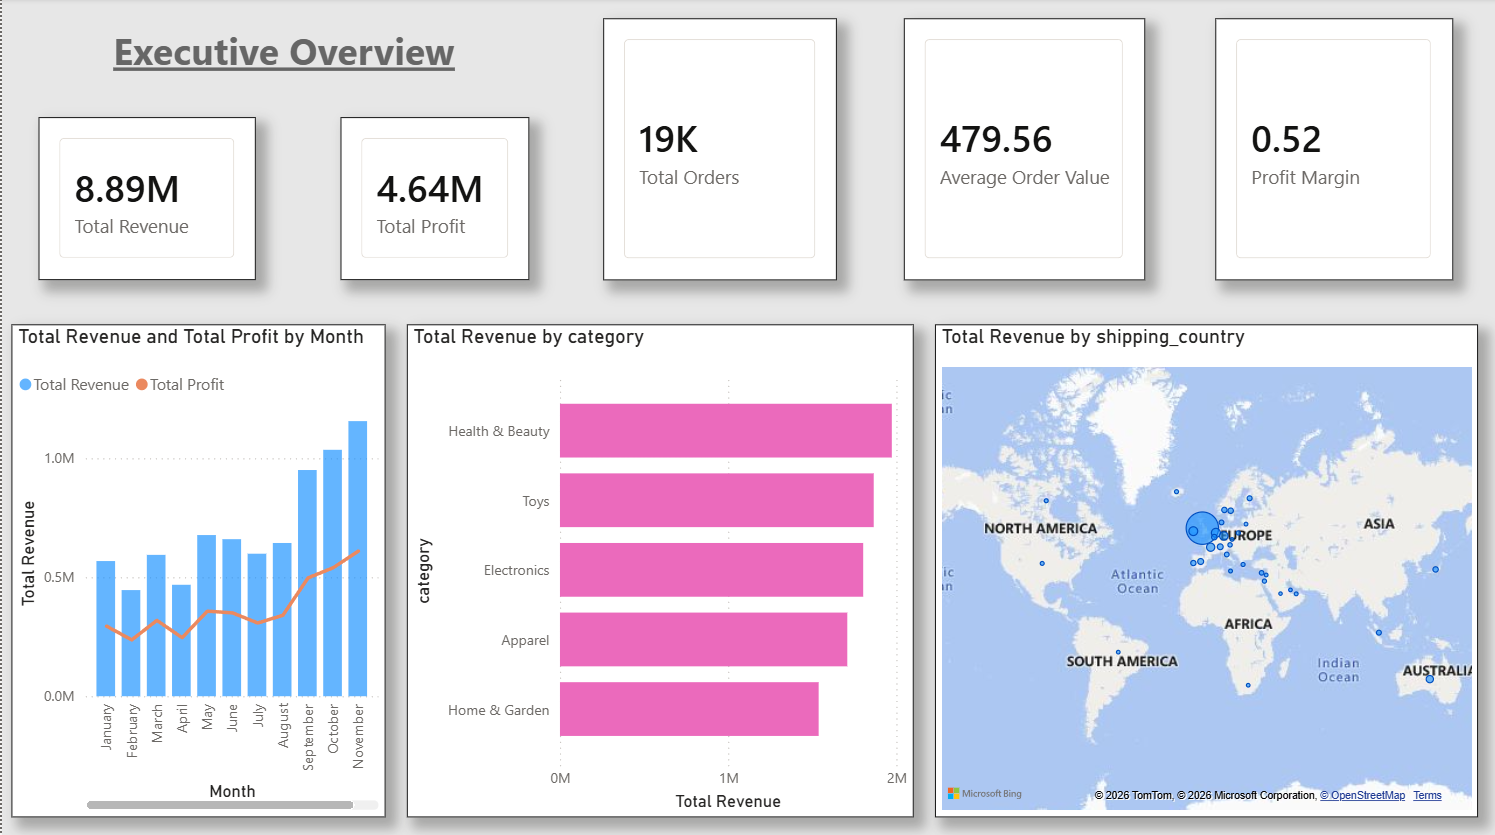

What the dashboard file says about the page in this screenshot:
{"tool":"powerbi","page":{"name":"Executive Overview","canvas":[1280,720],"ordinal":0},"visuals":[{"type":"cardVisual","fields":{"Data":["_Measures.Total Revenue"]},"box":[31,101.7,186.2,139.7],"z":0},{"type":"cardVisual","fields":{"Data":["_Measures.Total Profit"]},"box":[289.7,101.7,162.1,139.7],"z":1000},{"type":"cardVisual","fields":{"Data":["_Measures.Total Orders"]},"box":[515.5,17.2,200,224.1],"z":2000},{"type":"cardVisual","fields":{"Data":["_Measures.Average Order Value"]},"box":[772.4,17.2,206.9,224.1],"z":3000},{"type":"cardVisual","fields":{"Data":["_Measures.Profit Margin"]},"box":[1039.7,17.2,203.4,224.1],"z":4000},{"type":"lineClusteredColumnComboChart","fields":{"Category":["orders.order_date.Variation.Date Hierarchy.Month"],"Y":["_Measures.Total Revenue"],"Y2":["_Measures.Total Profit"]},"box":[0,279.3,320.7,422.4],"z":5000},{"type":"clusteredBarChart","fields":{"Category":["products.category"],"Y":["_Measures.Total Revenue"]},"box":[337.9,279.3,434.5,422.4],"z":6000},{"type":"map","fields":{"Category":["orders.shipping_country"],"Size":["_Measures.Total Revenue"]},"box":[800,279.3,465.5,422.4],"z":7000},{"type":"textbox","box":[31,17.2,420.7,69],"z":8000}]}

Visuals, with their boxes in screenshot pixels (x1, y1, x2, y2), scaled from the page's 1280x720 canvas onto the 1495x835 screenshot:
cardVisual - _Measures.Total Revenue: crop(36, 118, 254, 280)
cardVisual - _Measures.Total Profit: crop(338, 118, 528, 280)
cardVisual - _Measures.Total Orders: crop(602, 20, 836, 280)
cardVisual - _Measures.Average Order Value: crop(902, 20, 1144, 280)
cardVisual - _Measures.Profit Margin: crop(1214, 20, 1452, 280)
lineClusteredColumnComboChart - orders.order_date.Variation.Date Hierarchy.Month x _Measures.Total Revenue: crop(0, 324, 375, 814)
clusteredBarChart - products.category x _Measures.Total Revenue: crop(395, 324, 902, 814)
map - orders.shipping_country x _Measures.Total Revenue: crop(934, 324, 1478, 814)
textbox: crop(36, 20, 528, 100)
